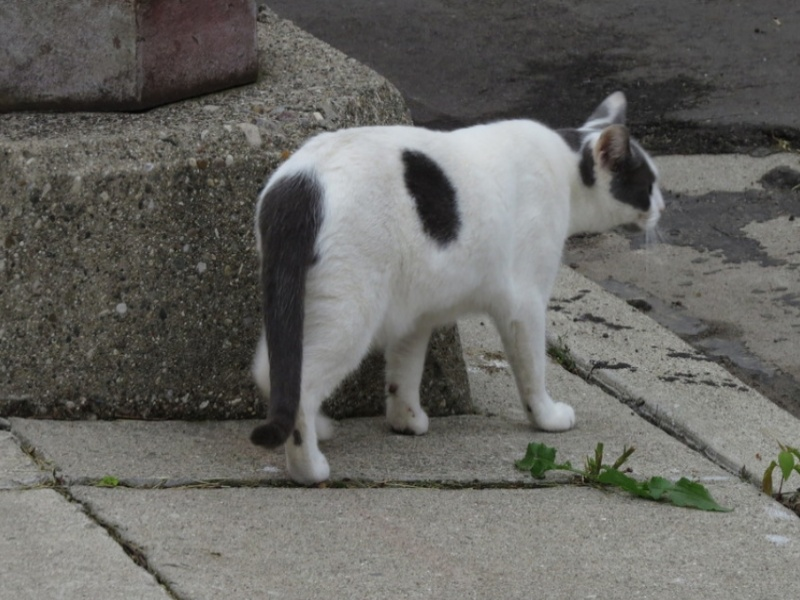cat: (241, 81, 666, 487)
